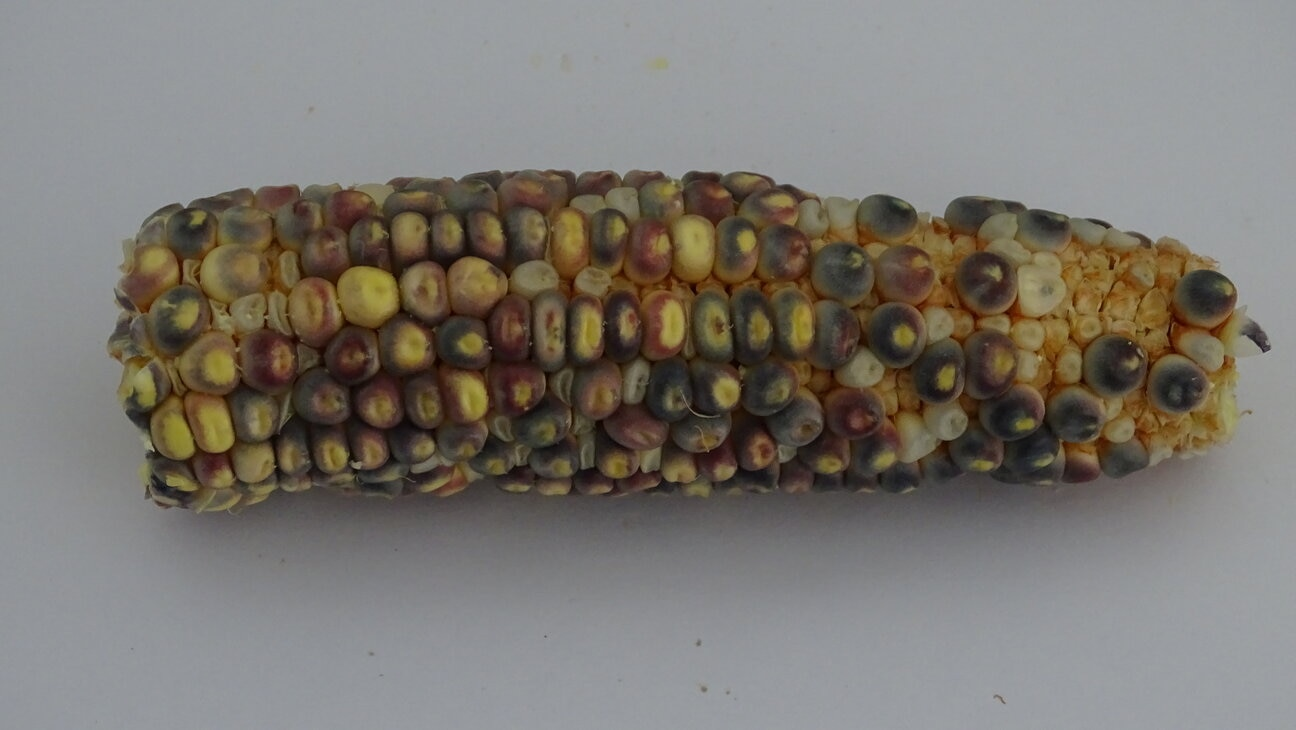corn: (336, 266, 402, 324)
